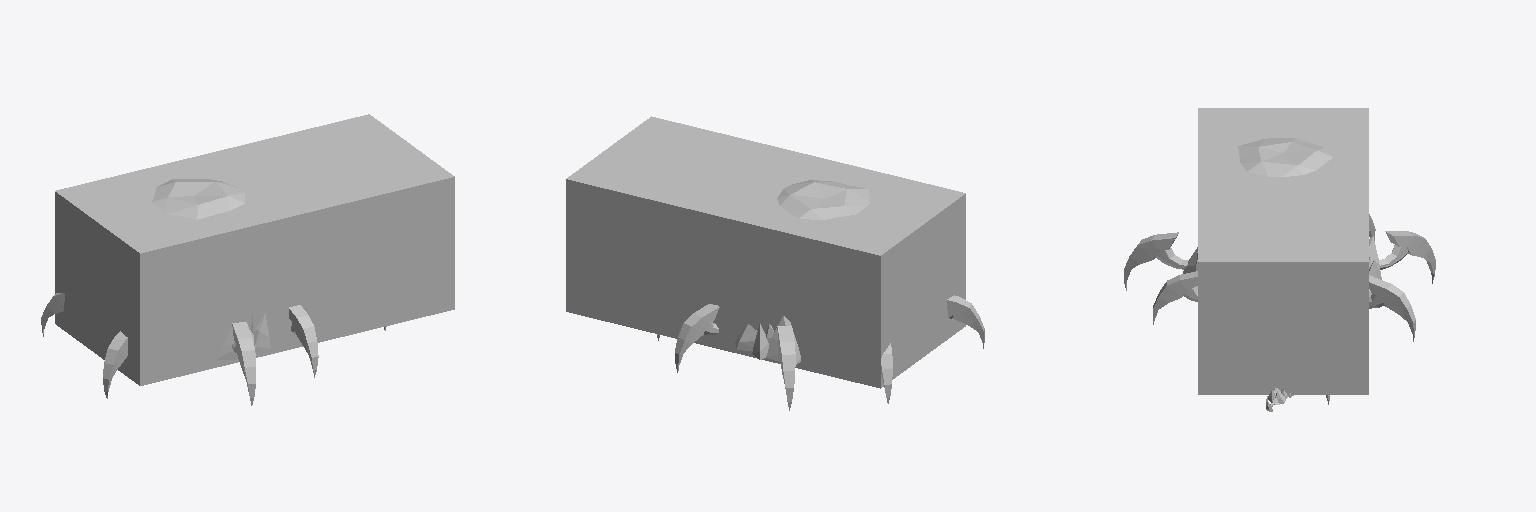
Rendered from fire enemy_000015.obj.
3 views of the same model, side by side, from view 1: azimuth 30°, elevation 25°; view 2: azimuth 150°, elevation 25°; view 3: azimuth 270°, elevation 25° (orthographic).
Visible parts, largest first — view 1: Cube, legs_Plane.006, head_Cylinder.078, body_Cylinder; view 2: Cube, legs_Plane.006, head_Cylinder.078, body_Cylinder; view 3: Cube, legs_Plane.006, head_Cylinder.078, body_Cylinder.
Part boxes in pixels (x1,y1,x2,y2): Cube: (55,114,454,385); legs_Plane.006: (41,293,386,405); head_Cylinder.078: (152,179,244,219); body_Cylinder: (216,314,270,359); Cube: (566,116,965,388); legs_Plane.006: (657,295,984,410); head_Cylinder.078: (777,180,869,219); body_Cylinder: (735,316,800,364); Cube: (1198,108,1368,394); legs_Plane.006: (1124,214,1435,411); head_Cylinder.078: (1238,138,1332,176); body_Cylinder: (1183,236,1381,404).
Size of the model in its own units: 16.94 by 6.67 by 12.41.